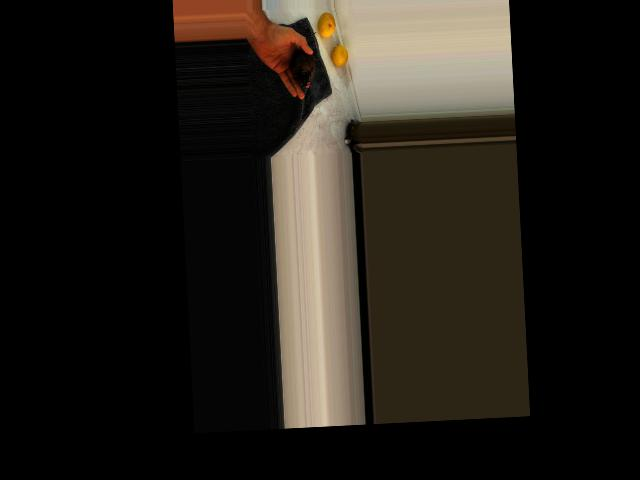beet: (288, 32, 319, 86)
